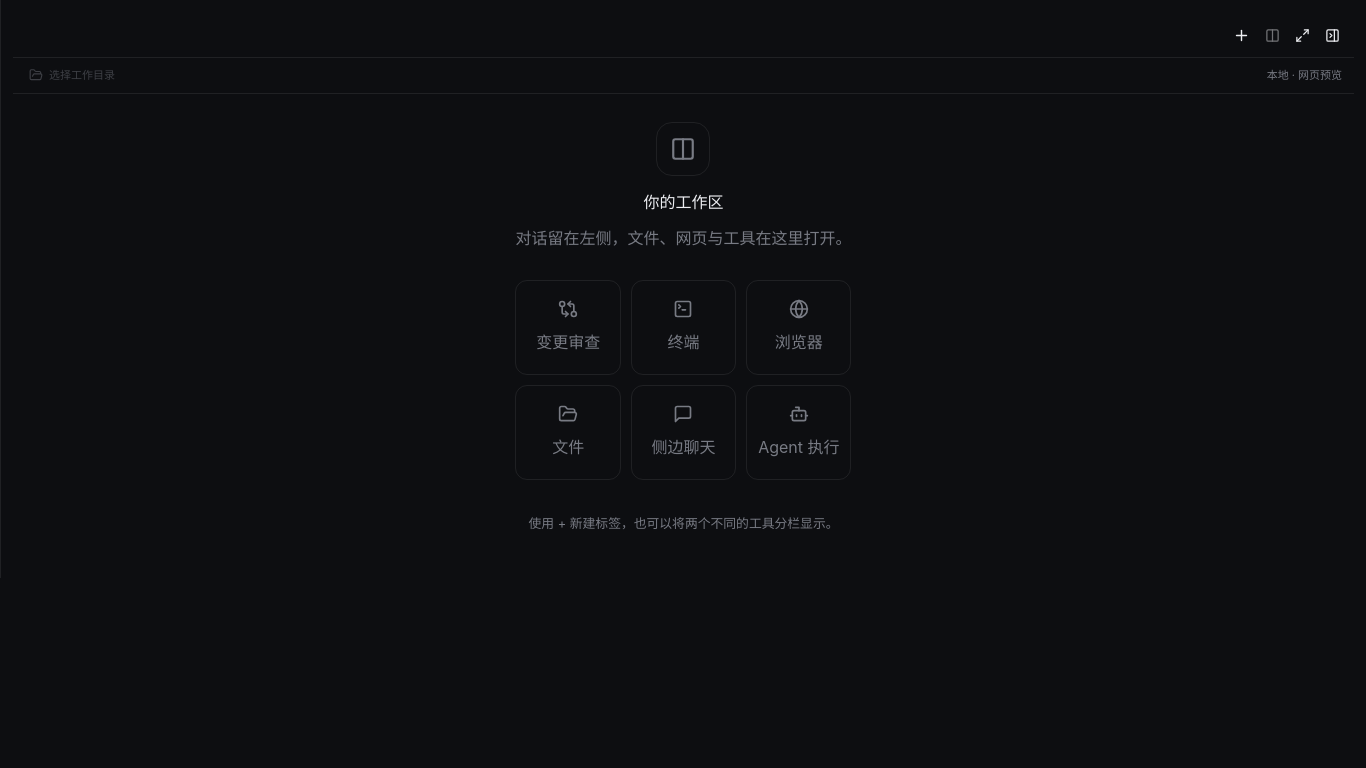
Agent right workspace › explains browser limitations in web mode, without an iframe
Click the button named "新建工作区标签" at point(1241, 36), box x1=1227 y1=22 x2=1255 y2=50
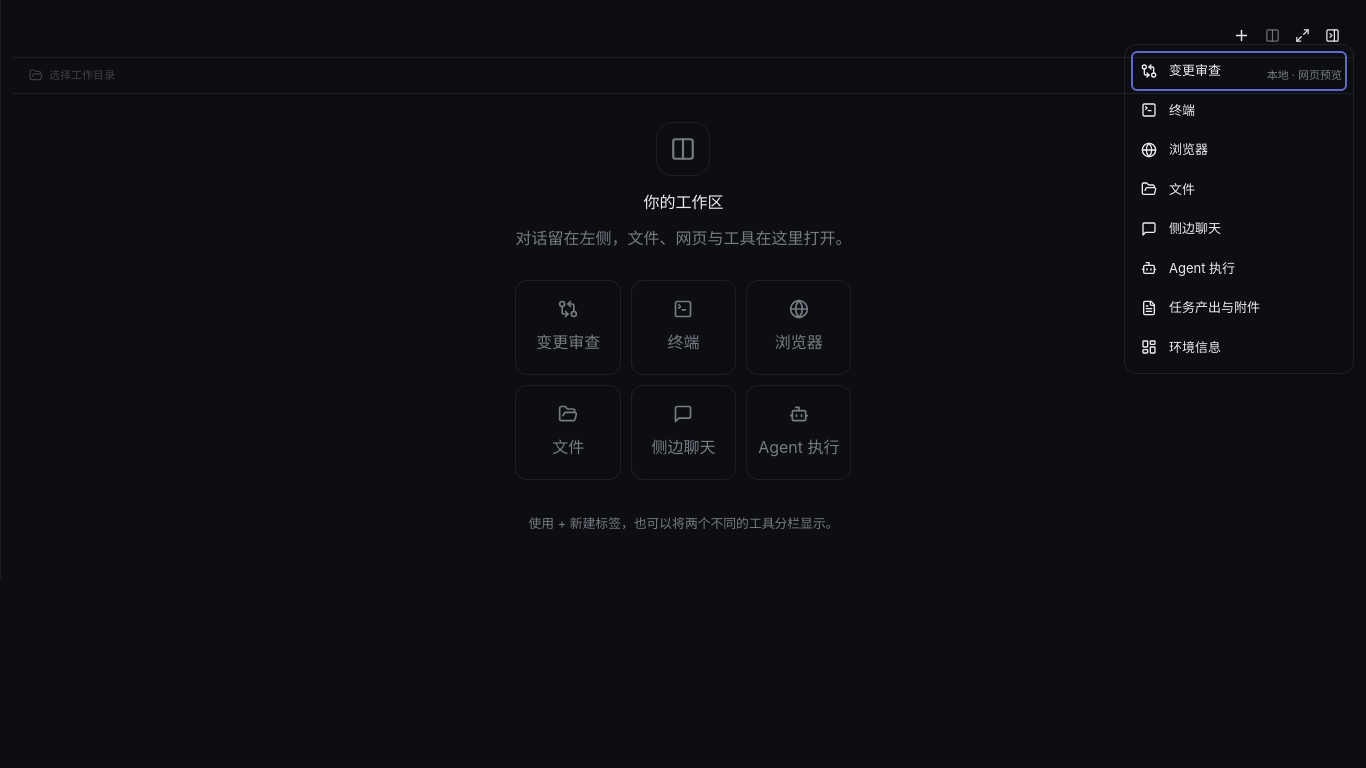
Click the menu item "浏览器" at point(1239, 150), box x1=1131 y1=130 x2=1347 y2=170
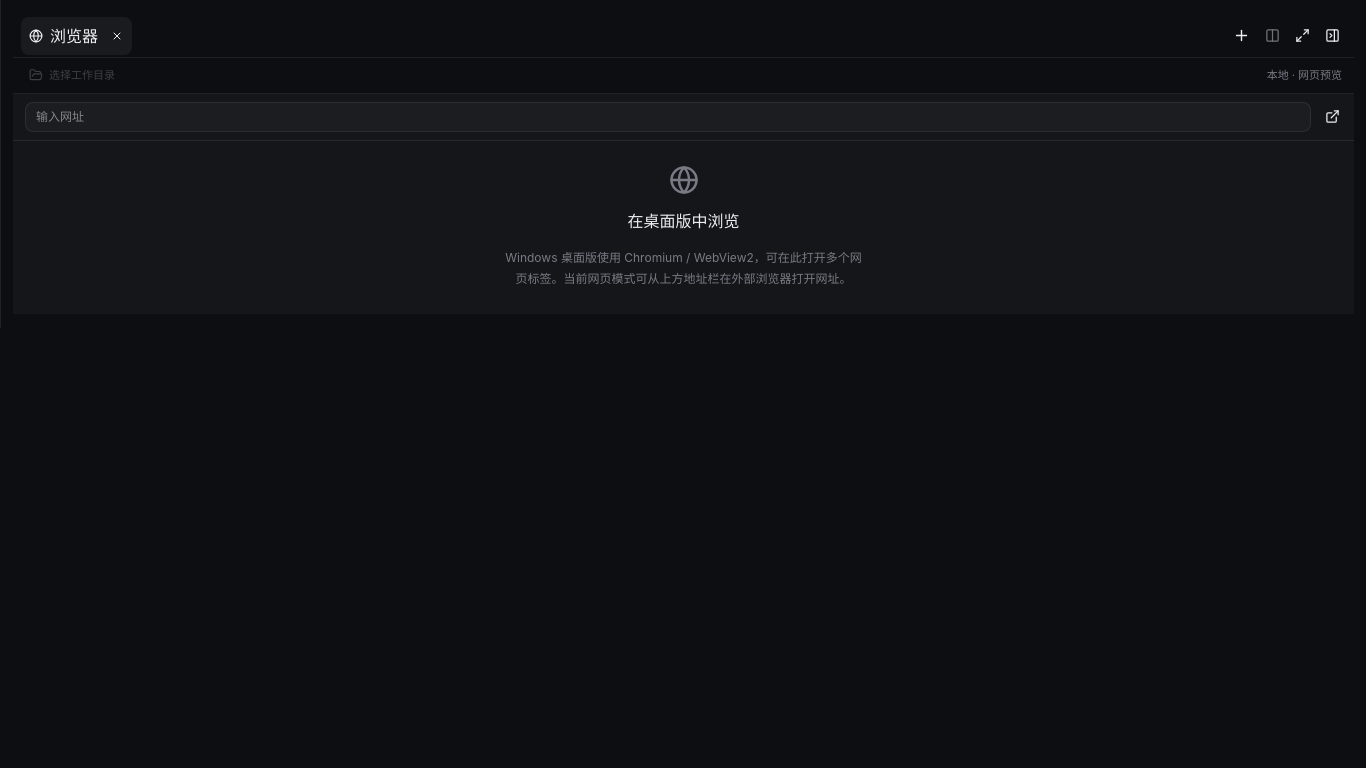
Expected: the text "在桌面版中浏览" is shown, x1=628 y1=208 x2=740 y2=232
